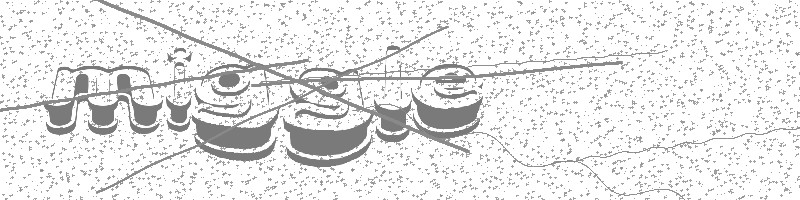e: (409, 61, 483, 142)
g: (280, 64, 374, 168), (193, 63, 280, 163)
i: (164, 44, 192, 136)
l: (373, 43, 412, 143)
m: (42, 60, 165, 137)
